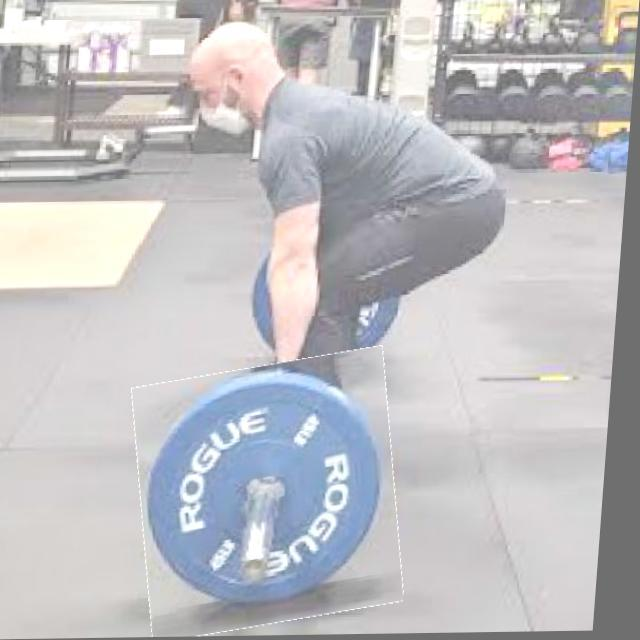barbell: (134, 356, 419, 636)
